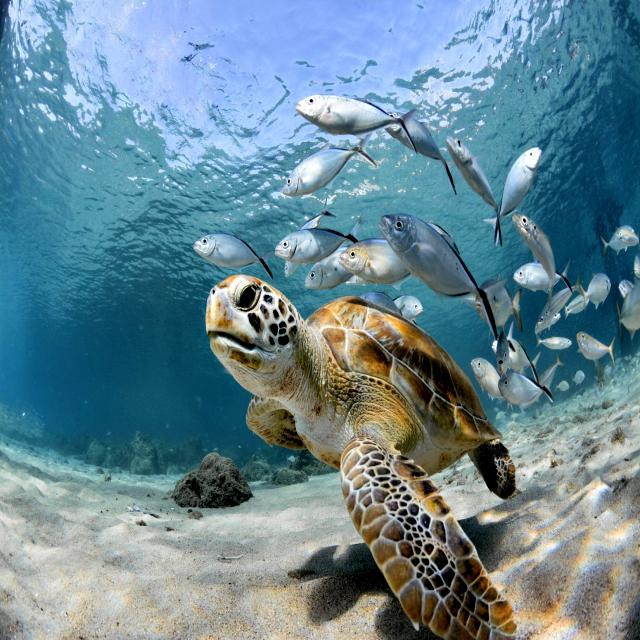Sea turtle: (191, 256, 540, 640)
